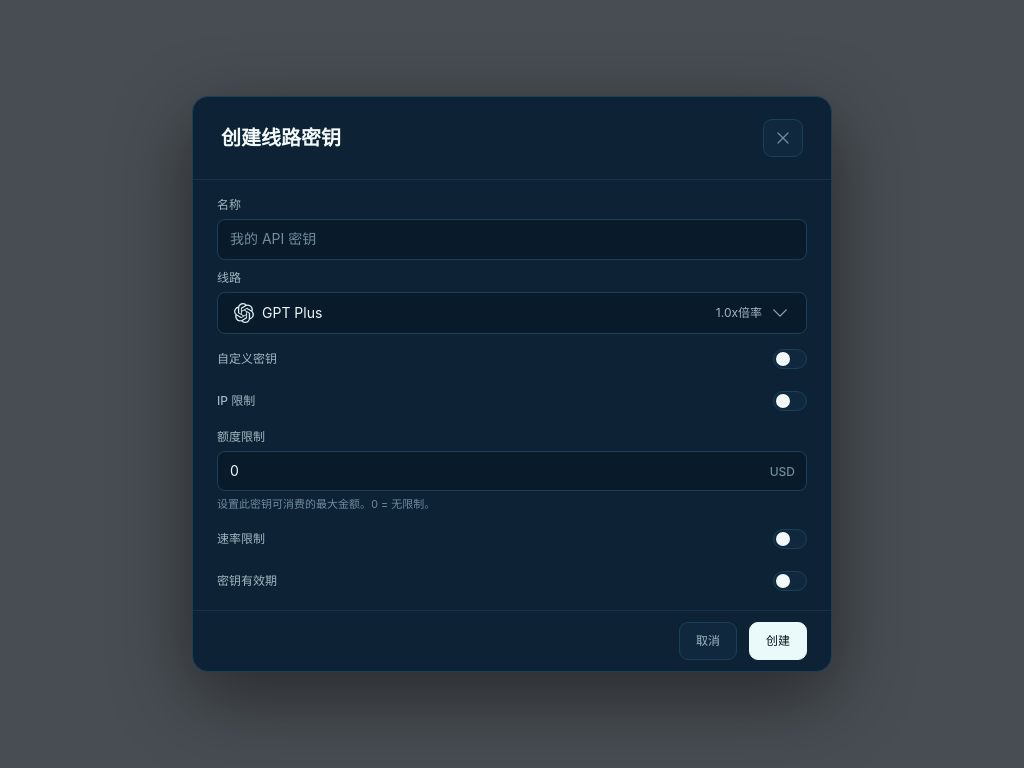
Scenario: create line key › rejects expired dates
The width and height of the screenshot is (1024, 768).
Type "expires" into the field named "name" at (512, 240), box [217,219,807,260]
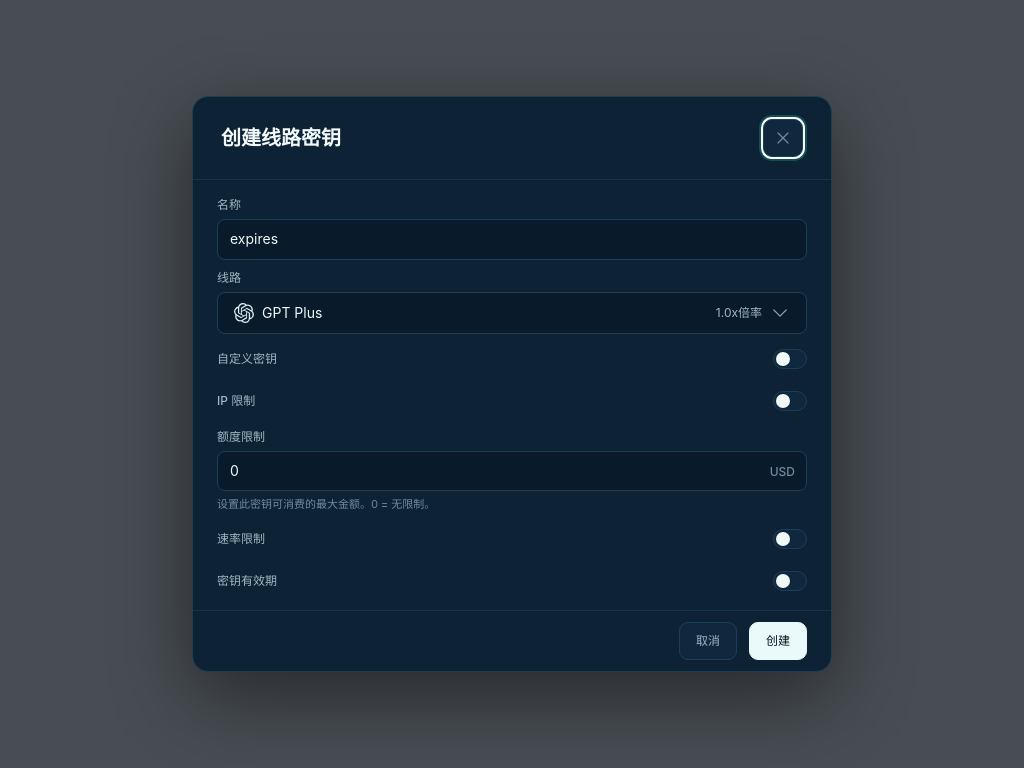
Click the switch named "expiresOn" at (790, 581), box [773,571,807,591]
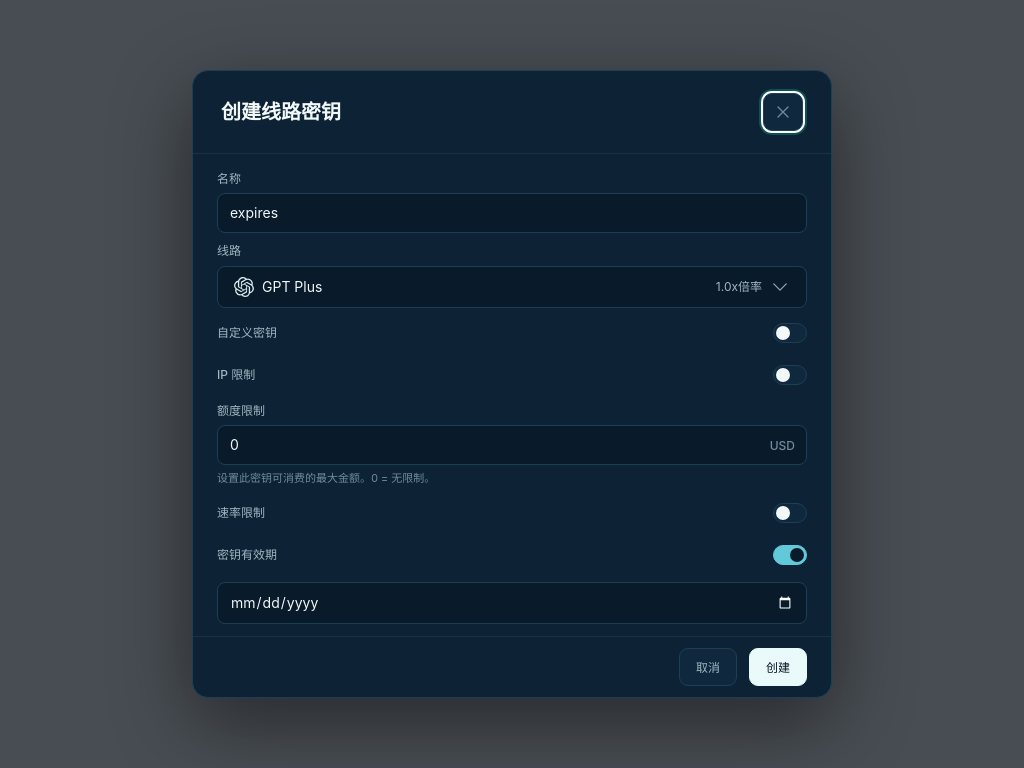
Type "2000-01-01" into the date field named "expires" at (512, 603), box [217,582,807,624]
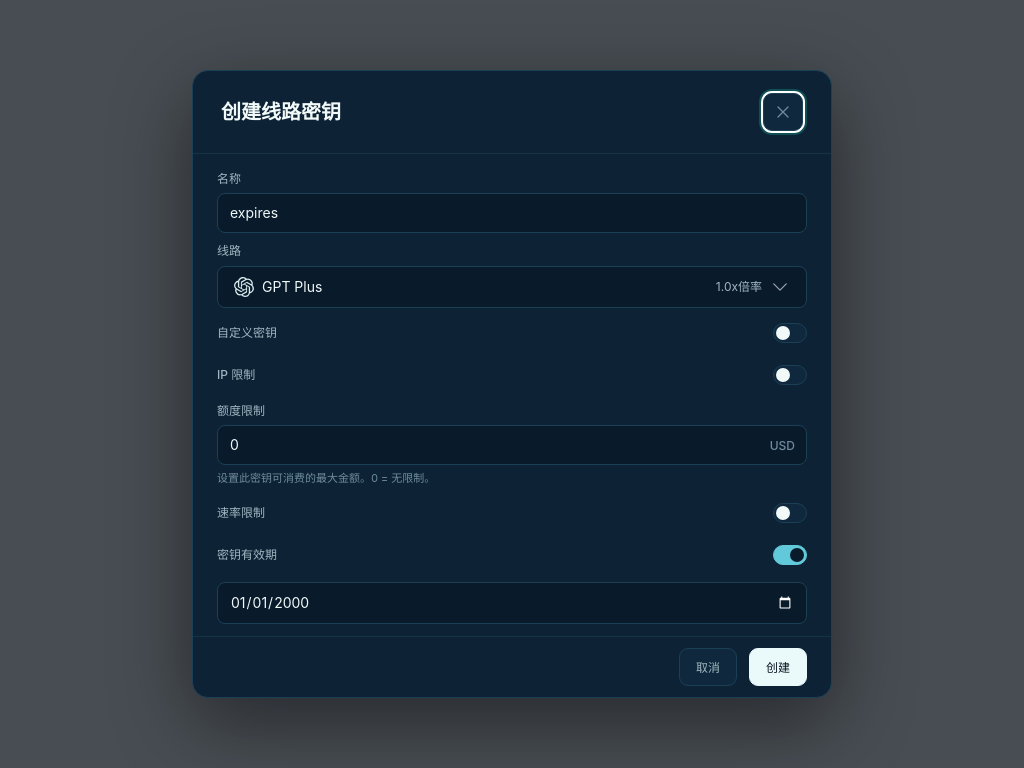
Submit the form, box [217,169,807,624]
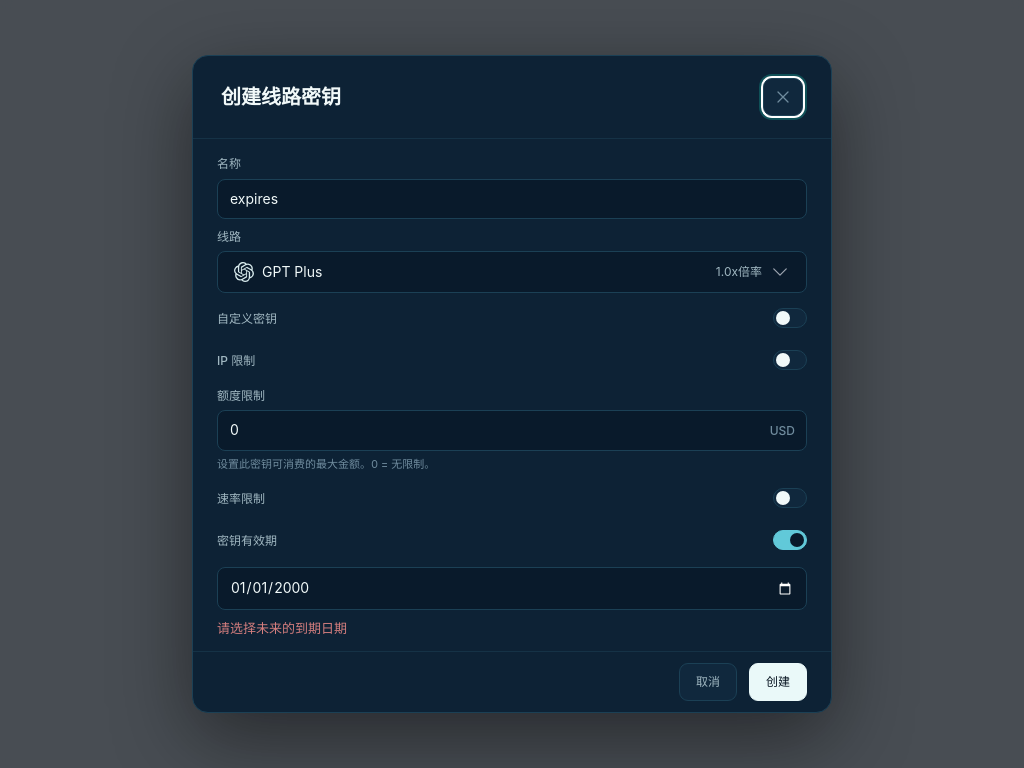
Result: the message "请选择未来的到期日期" is shown at [217,620,347,636]
